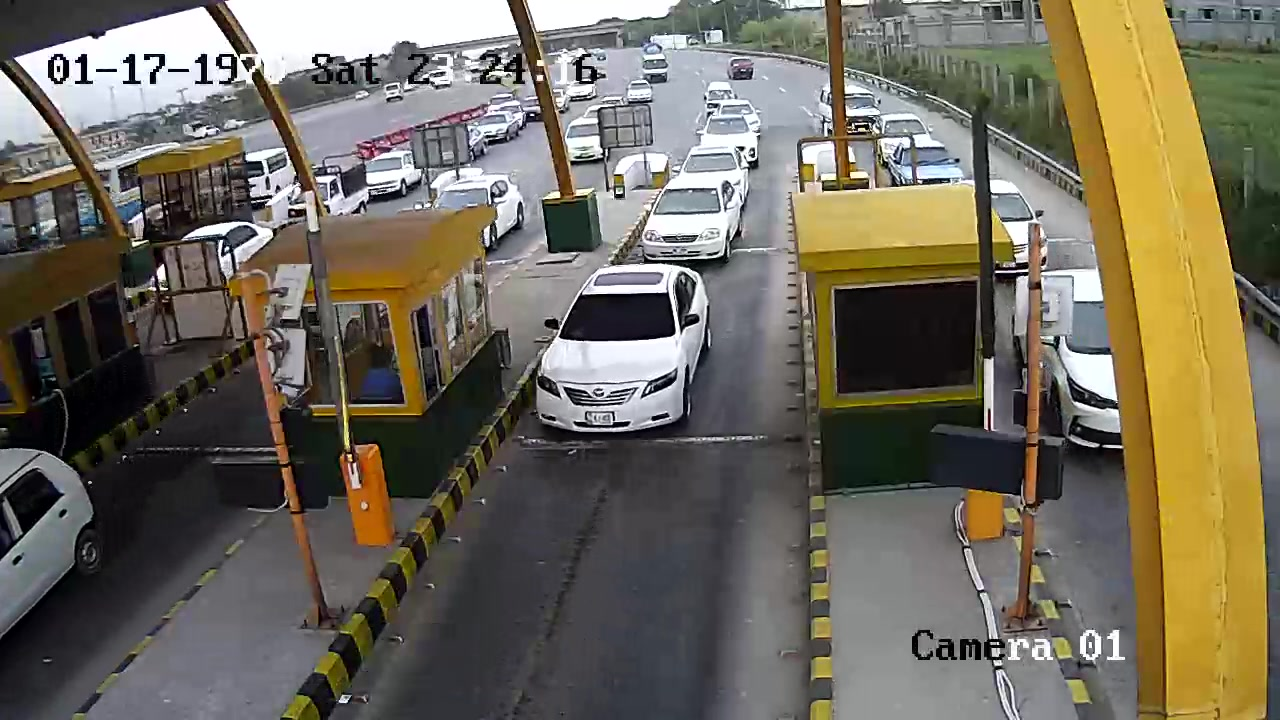F1: (531, 259, 740, 446)
